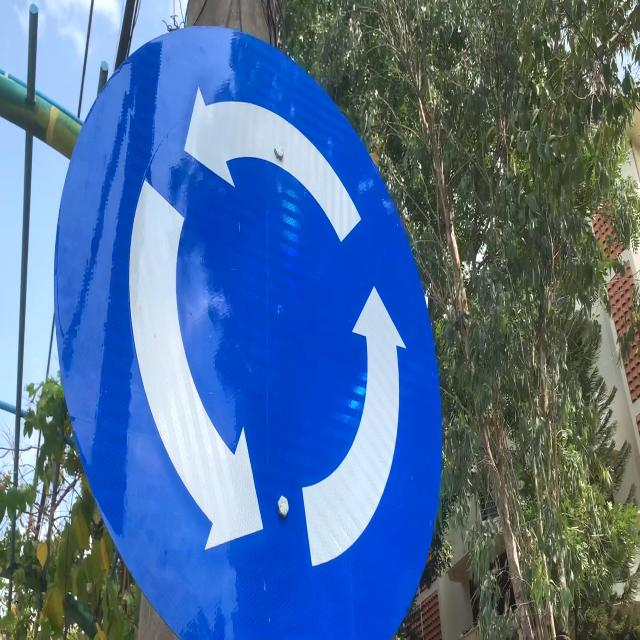R.303: (51, 21, 445, 640)
